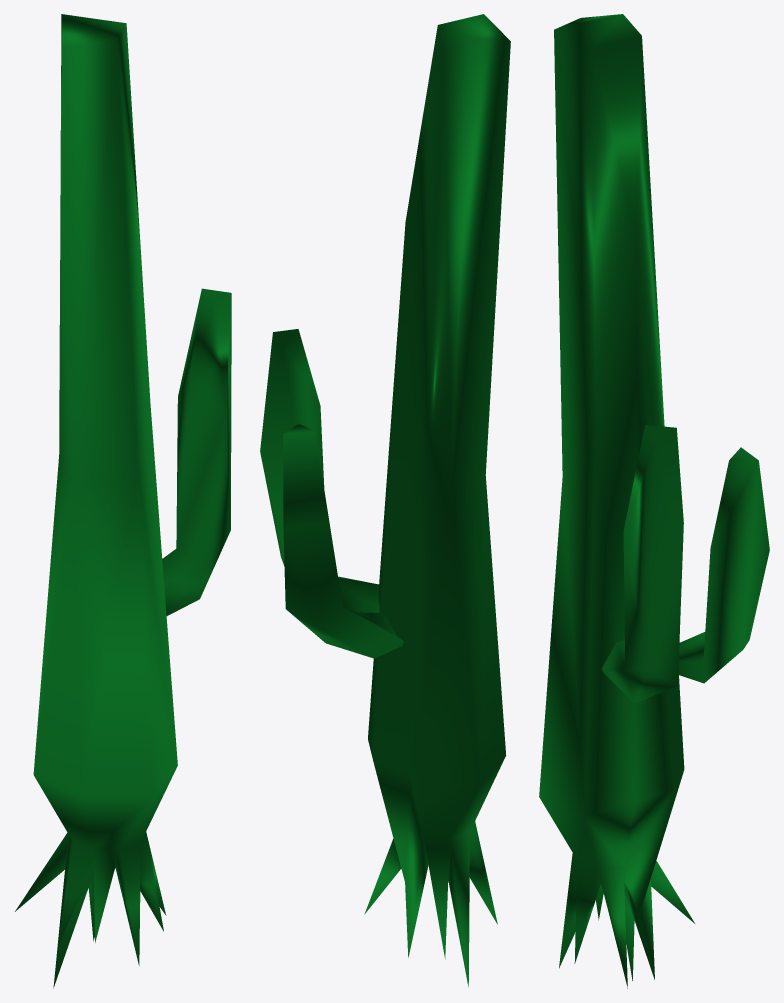
Rendered from SeguaroCactusLarge1_LOD2.obj.
3 views of the same model, side by side, from view 1: azimuth 30°, elevation 25°; view 2: azimuth 150°, elevation 25°; view 3: azimuth 270°, elevation 25° (orthographic). The views are drawn at different scales.
Visible parts, largest first — view 1: SeguaroCactusLarge1_LOD2; view 2: SeguaroCactusLarge1_LOD2; view 3: SeguaroCactusLarge1_LOD2.
Part boxes in pixels (<box>): SeguaroCactusLarge1_LOD2: <box>15,14,231,988</box>; SeguaroCactusLarge1_LOD2: <box>260,14,510,987</box>; SeguaroCactusLarge1_LOD2: <box>539,14,769,988</box>.
Bounding box in the file's own units: 114 × 509 × 110.
